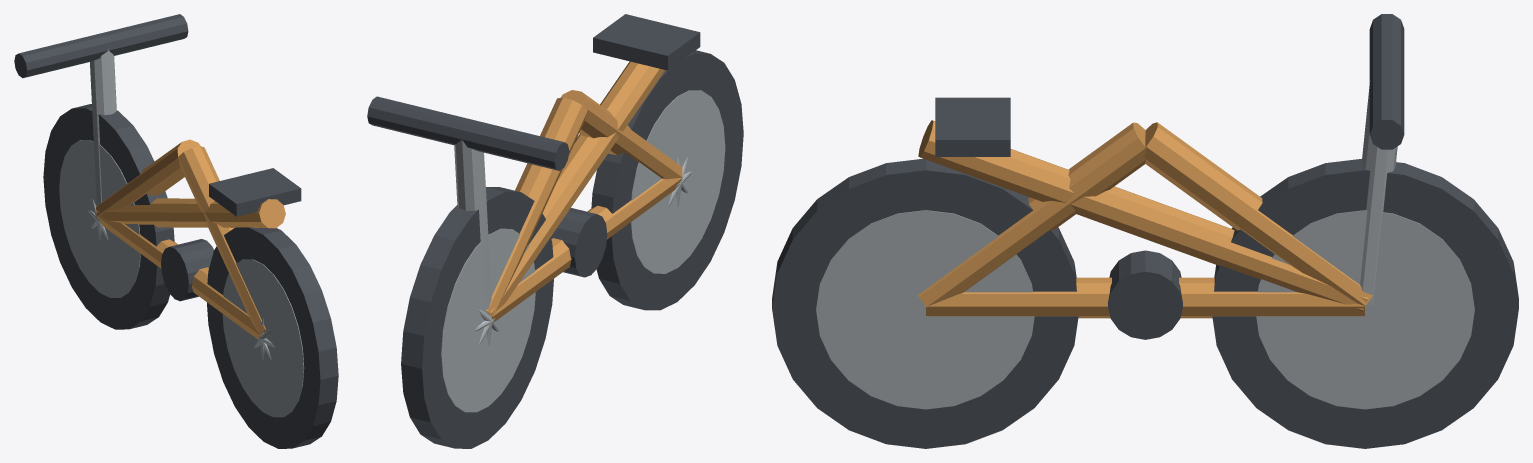
File: bmx_bicycle.glb
3 views of the same model, side by side, from view 1: azimuth 30°, elevation 25°; view 2: azimuth 150°, elevation 25°; view 3: azimuth 270°, elevation 25° (orthographic). The views are drawn at different scales.
Visible parts, largest first — view 1: part_10, part_0, part_11, part_1, part_25, part_23, part_21, part_26, part_22, part_20, part_27, part_24; view 2: part_0, part_10, part_11, part_1, part_23, part_25, part_20, part_26, part_22, part_21, part_24, part_27; view 3: part_10, part_0, part_11, part_1, part_23, part_22, part_20, part_21, part_27, part_25, part_26, part_24.
Part boxes in pixels (<box>): part_10: <box>207,227,338,448</box>; part_0: <box>43,104,174,329</box>; part_11: <box>222,259,304,417</box>; part_1: <box>59,140,140,297</box>; part_25: <box>14,14,188,78</box>; part_23: <box>96,198,285,228</box>; part_21: <box>178,146,265,334</box>; part_26: <box>209,168,301,216</box>; part_22: <box>96,214,260,339</box>; part_20: <box>96,139,200,216</box>; part_27: <box>161,239,213,301</box>; part_24: <box>90,49,116,206</box>; part_0: <box>401,187,553,448</box>; part_10: <box>591,50,743,310</box>; part_11: <box>630,90,725,273</box>; part_1: <box>441,228,535,412</box>; part_23: <box>490,61,664,319</box>; part_25: <box>367,96,569,170</box>; part_20: <box>485,97,587,317</box>; part_26: <box>593,14,700,70</box>; part_22: <box>491,178,681,321</box>; part_21: <box>561,90,682,179</box>; part_24: <box>454,140,491,315</box>; part_27: <box>551,208,607,277</box>; part_10: <box>772,158,1078,448</box>; part_0: <box>1212,159,1518,448</box>; part_11: <box>816,210,1034,409</box>; part_1: <box>1256,210,1474,409</box>; part_23: <box>918,120,1368,311</box>; part_22: <box>926,277,1364,318</box>; part_20: <box>1144,122,1372,305</box>; part_21: <box>918,122,1146,307</box>; part_27: <box>1108,250,1182,339</box>; part_25: <box>1369,14,1404,149</box>; part_26: <box>935,97,1010,156</box>; part_24: <box>1360,81,1397,305</box>.
Bounding box in the file's own units: 0.8 × 1.32 × 2.38.
